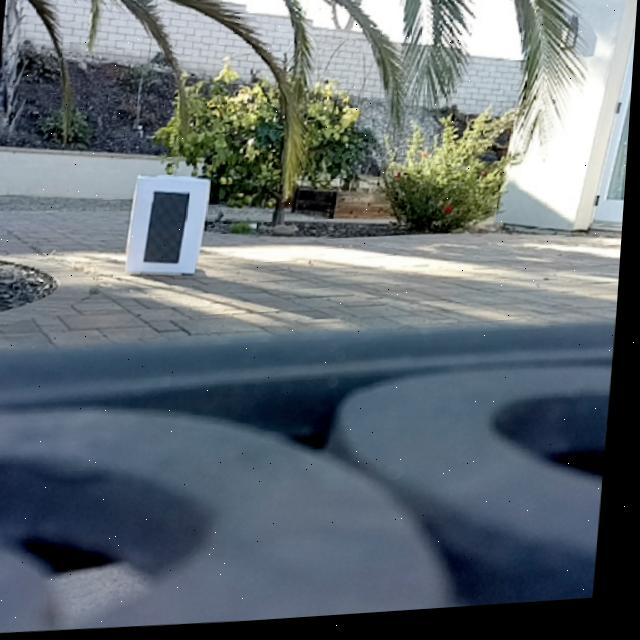led: (145, 188, 194, 270)
